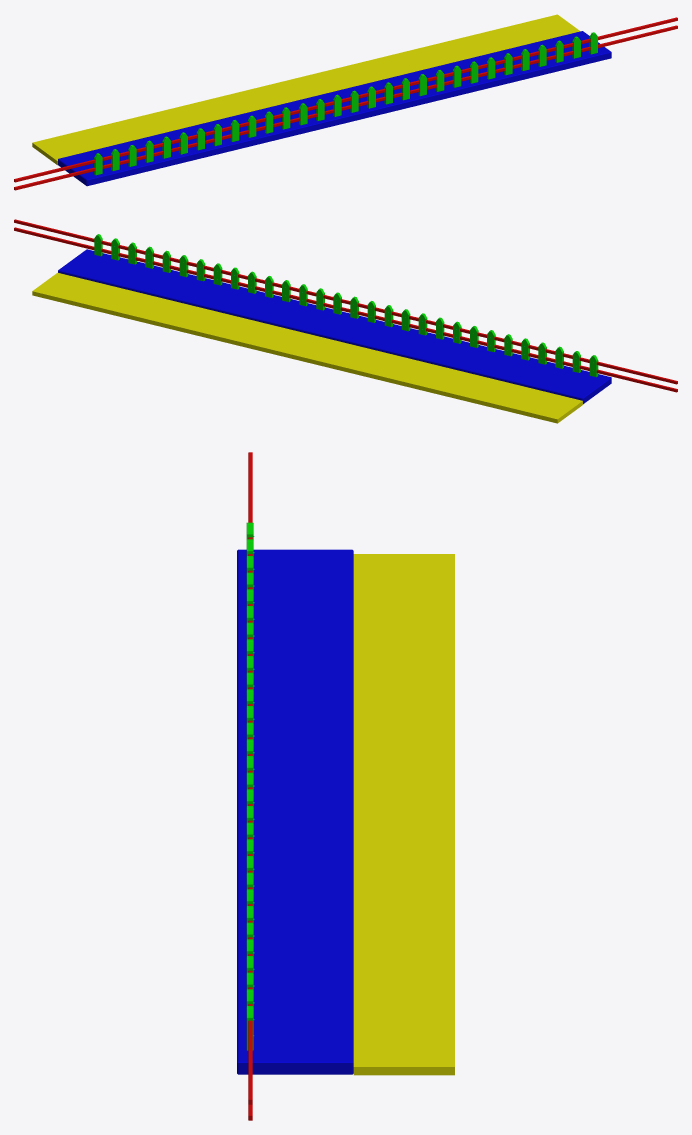
3 renders of one model, top to bottom at view 1: azimuth 30°, elevation 25°; view 2: azimuth 150°, elevation 25°; view 3: azimuth 270°, elevation 25°, orthographic. The views are drawn at different scales.
Parts seen in each view (by area): view 1: BG; view 2: BG; view 3: BG.
Part boxes in pixels (bbox=[...]): BG: bbox=[14, 14, 677, 190]; BG: bbox=[14, 219, 677, 423]; BG: bbox=[237, 452, 454, 1120].
Bounding box in the file's own units: 7700 × 297 × 1095.
